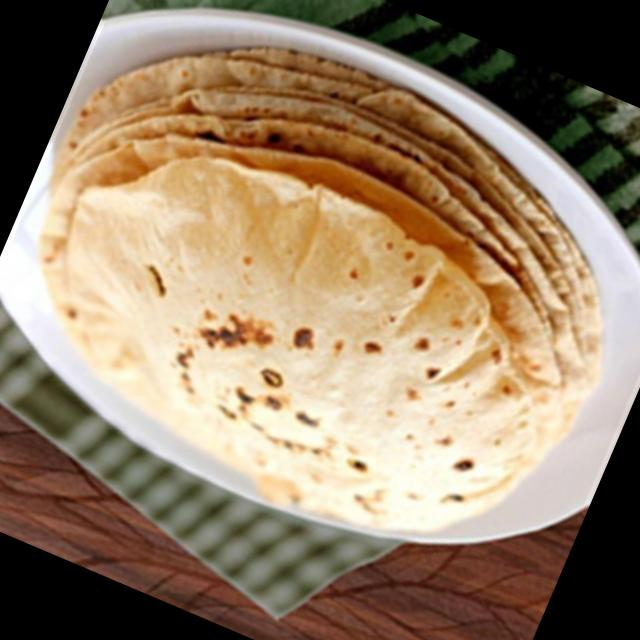roti: (38, 44, 608, 538)
